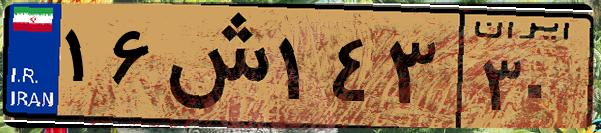0: (525, 38, 570, 115)
1: (270, 28, 330, 110), (57, 26, 110, 100)
3: (385, 28, 445, 110), (475, 38, 525, 113)
4: (330, 28, 385, 110)
6: (110, 28, 158, 98)
ش: (158, 12, 270, 120)
